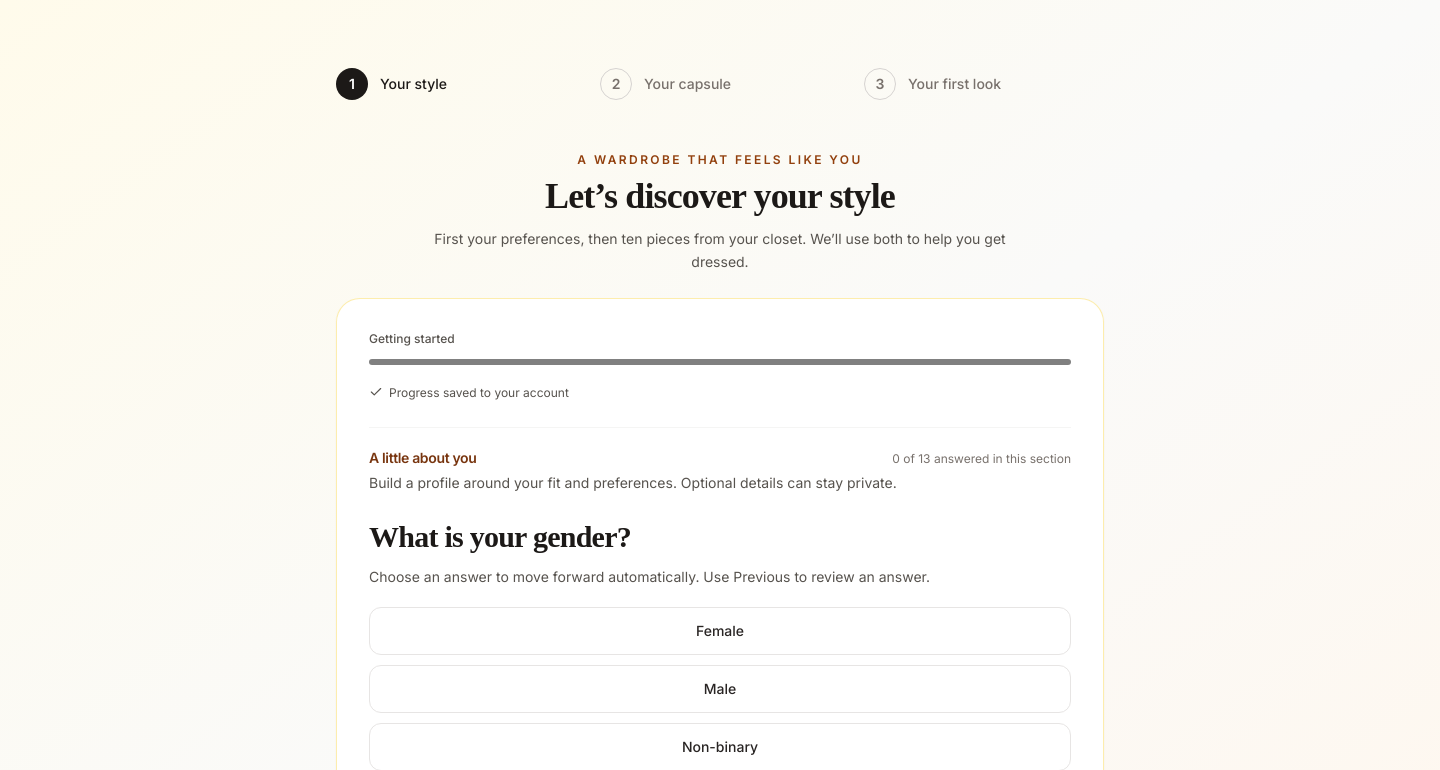
Test: auto advances within the latest Female variant
Click the button "Male" at [720, 689], box [369, 665, 1071, 713]
Wait 200 ms
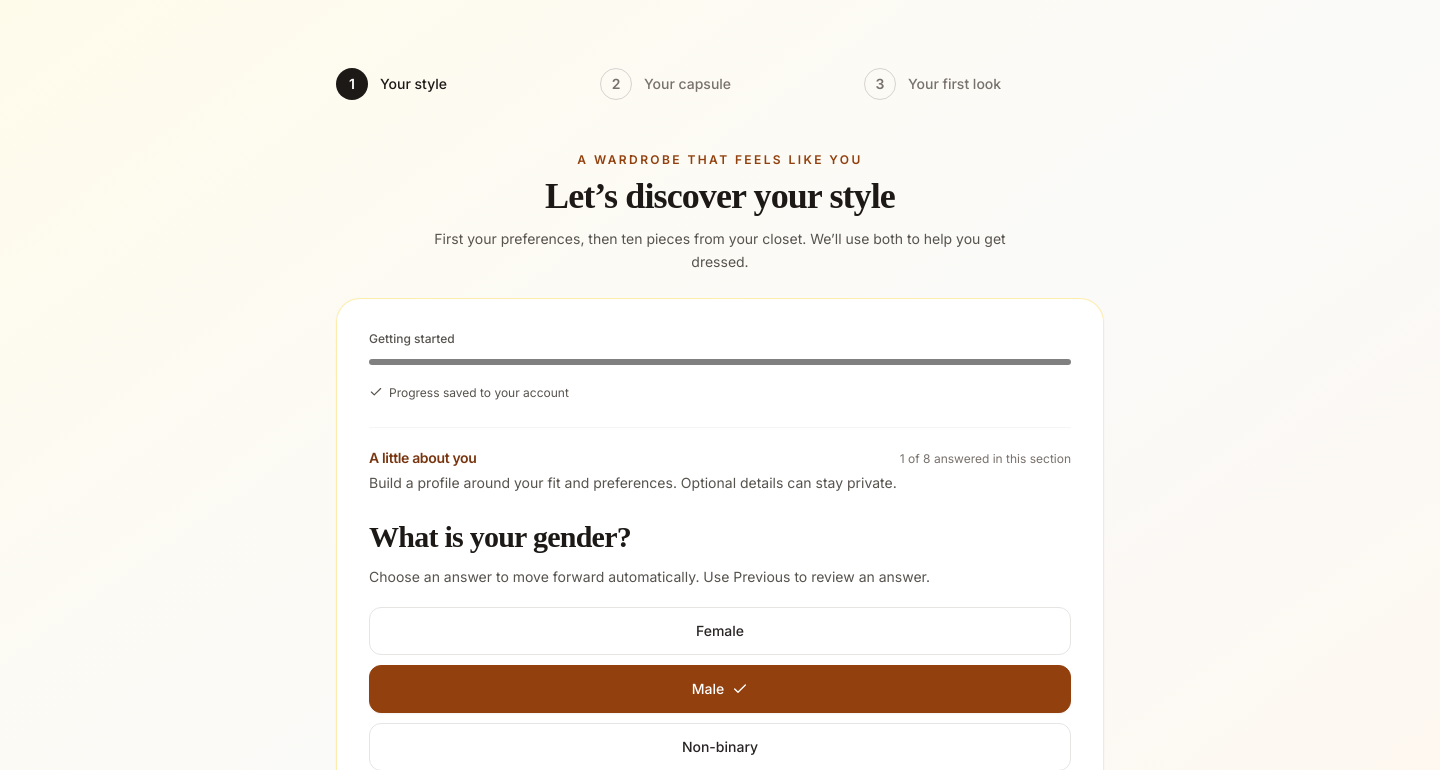
Click the button "Female" at [720, 631], box [369, 607, 1071, 655]
Wait 400 ms
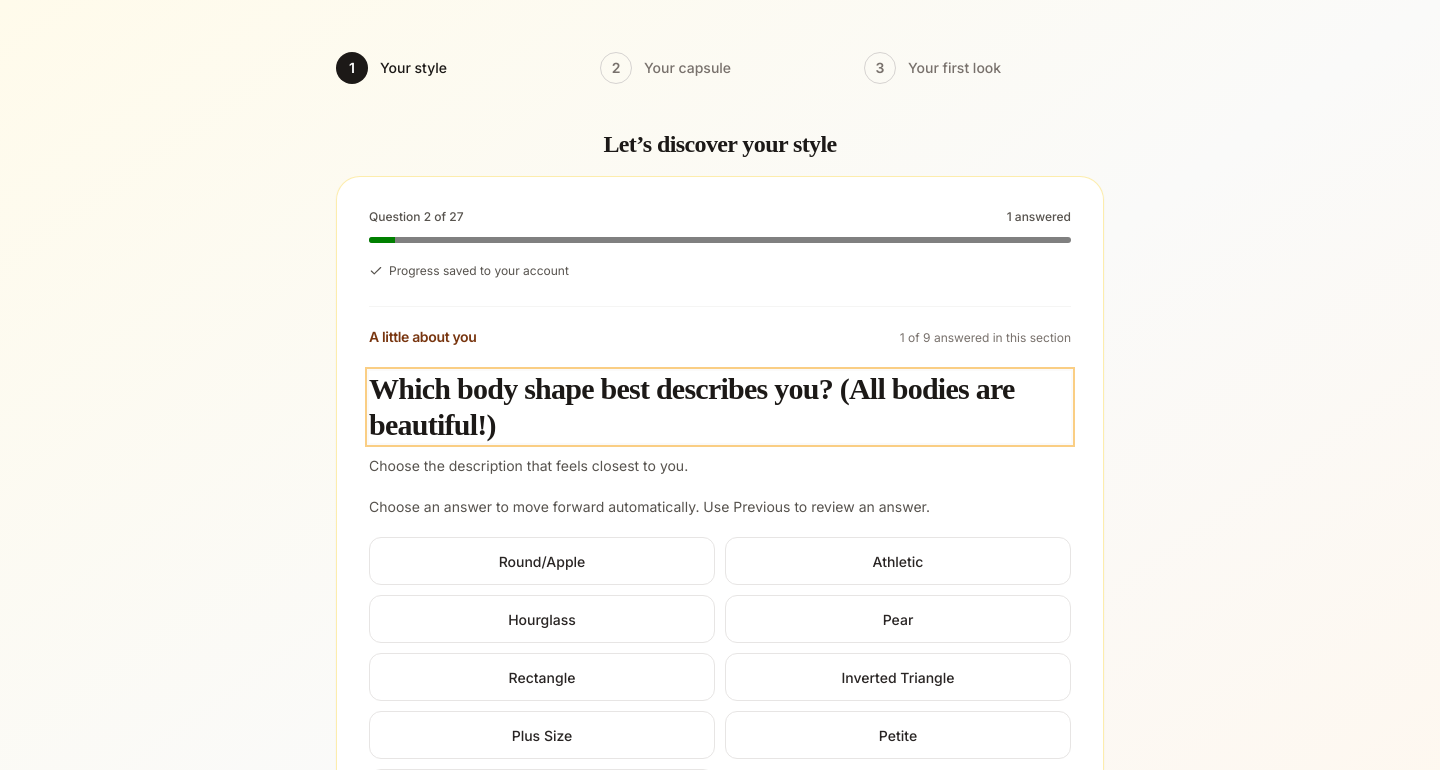
Expected: the text "Question 2 of 27" is shown, [369, 209, 464, 225]
